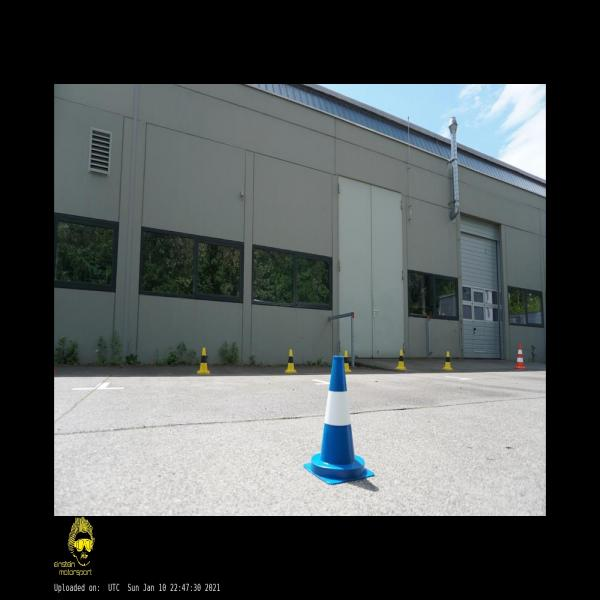blue_cone: (304, 356, 374, 484)
large_orange_cone: (514, 344, 526, 369)
yellow_cone: (196, 348, 209, 374), (285, 349, 296, 373), (396, 349, 406, 370), (443, 351, 453, 370), (344, 351, 351, 372)
